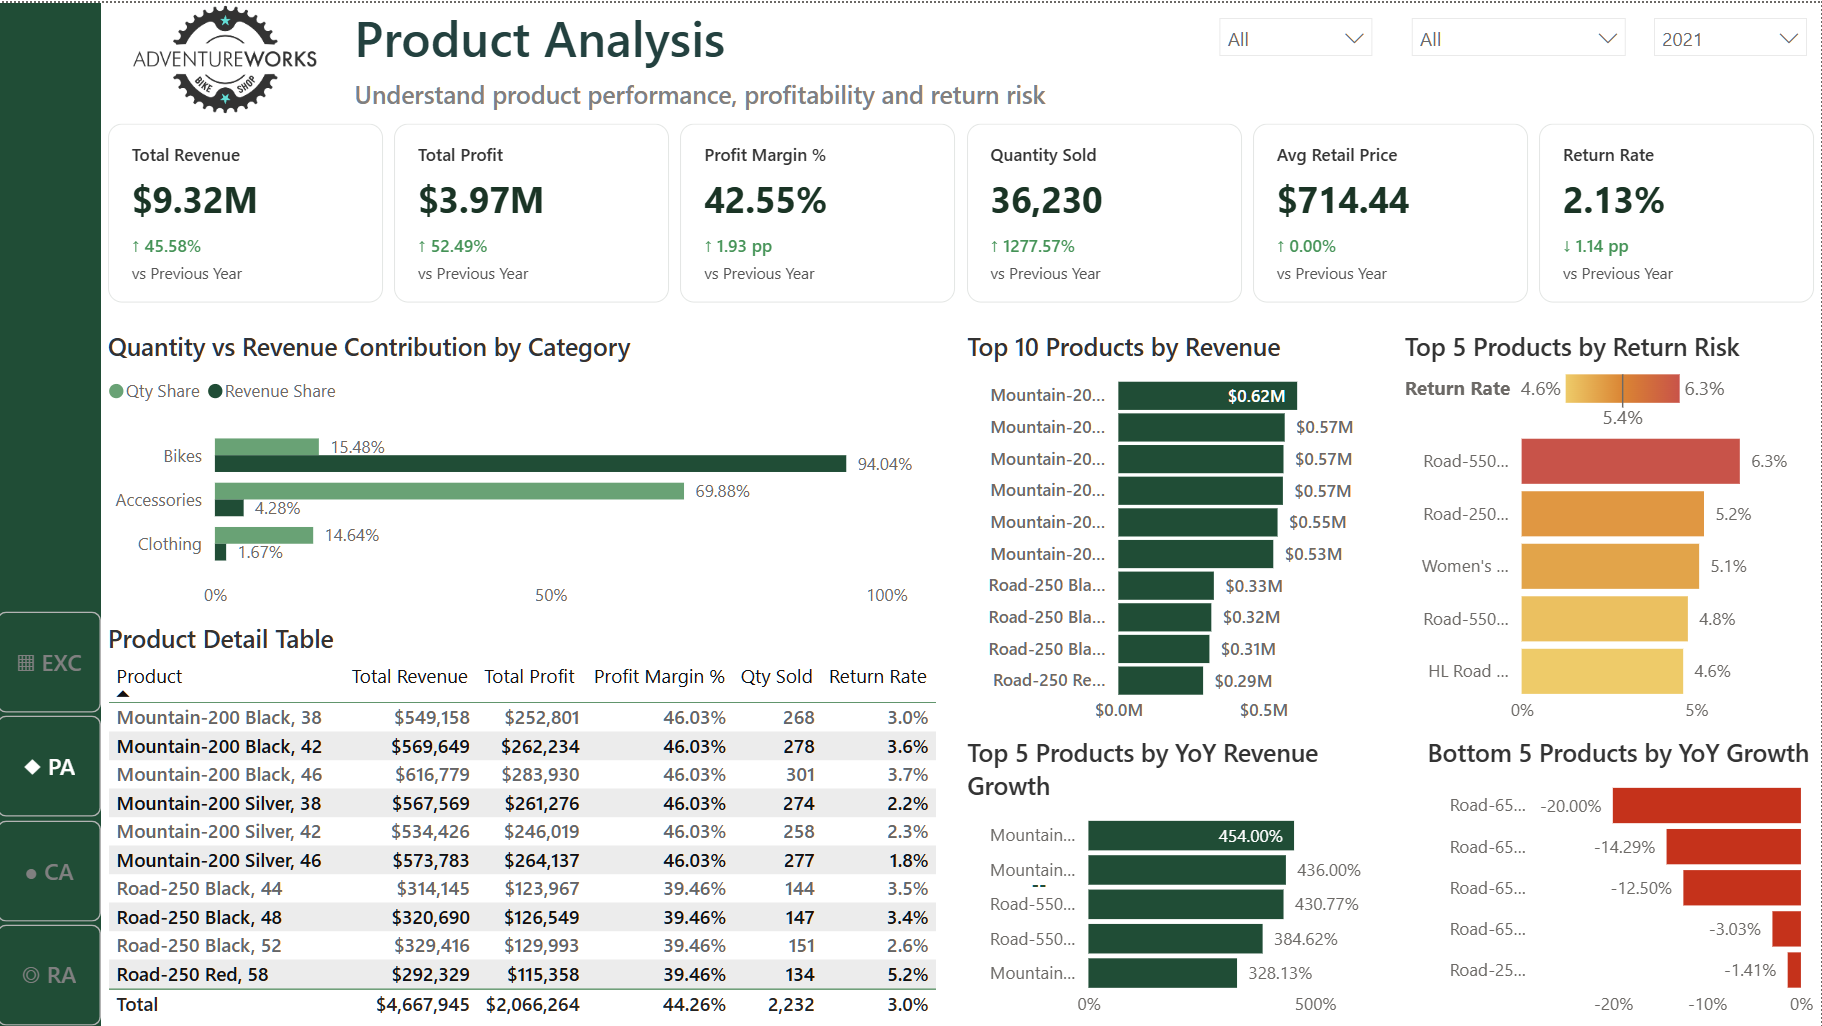

What the dashboard file says about the page in this screenshot:
{"tool":"powerbi","page":{"name":"◆ PA","canvas":[1280,720],"ordinal":1},"visuals":[{"type":"cardVisual","fields":{"Data":["Measure Table.Product YoY Availability Message"]},"box":[697.1,561.4,572.9,111.4],"z":0},{"type":"textbox","title":"Product Analysis","box":[246.2,1.1,553.7,78],"z":1000},{"type":"slicer","fields":{"Values":["Calendar Lookup.Year"]},"box":[1153,0,127,42.3],"z":2000},{"type":"slicer","fields":{"Values":["Territory Lookup.Region"]},"box":[848,0,127,42.3],"z":3000},{"type":"slicer","fields":{"Values":["Product Categories Lookup.CategoryName"]},"box":[983,0,170,42.5],"z":4000},{"type":"htmlContent443BE3AD55E043BF878BED274D3A6855","fields":{"content":["Measure Table.KPI Cards Product"]},"box":[72.9,78.6,1207.1,150],"z":5000},{"type":"clusteredBarChart","title":"Quantity vs Revenue Contribution by Category","fields":{"Category":["Product Categories Lookup.CategoryName"],"Y":["Measure Table.Category Quantity Contribution %","Measure Table.Category Revenue Contribution %"]},"box":[72.9,228.6,590,205.7],"z":6000},{"type":"clusteredBarChart","title":"Top 10 Products by Revenue","fields":{"Category":["Product Lookup.ProductName"],"Y":["Measure Table.Total Revenue"]},"box":[675.7,228.6,307.1,285.7],"z":7000},{"type":"tableEx","title":"Product Detail Table","fields":{"Values":["Product Lookup.ProductName","Measure Table.Total Revenue","Measure Table.Total Profit","Measure Table.Profit Margin %","Measure Table.Quantity Sold","Measure Table.Return Rate"]},"box":[72.9,434.3,602.9,285.7],"z":8000},{"type":"barChart","title":"Top 5 Products by Return Risk","fields":{"Category":["Product Lookup.ProductName"],"Y":["Measure Table.Return Rate"]},"box":[982.9,228.6,297.1,285.7],"z":9000},{"type":"barChart","title":"Top 5 Products by YoY Revenue Growth","fields":{"Category":["Product Lookup.ProductName"],"Y":["Measure Table.YoY Growth %"]},"box":[675.7,514.3,307.1,205.7],"z":10000},{"type":"barChart","title":"Bottom 5 Products by YoY Growth","fields":{"Category":["Product Lookup.ProductName"],"Y":["Measure Table.YoY Growth %"]},"box":[998.6,514.3,281.4,205.7],"z":11000},{"type":"shape","box":[0,0,72.9,721.4],"z":12000},{"type":"pageNavigator","box":[0,427.1,72.9,292.9],"z":13000},{"type":"image","box":[74.6,0,171.6,79.1],"z":13001}]}

Visuals, with their boxes on the page's 1280x720 design canvas (x1, y1, x2, y2). These are canvas units, not pixel positions in the 1822x1026 screenshot, which may show the page scaled, cropped or inside an application window:
cardVisual - Measure Table.Product YoY Availability Message: BBox(697, 561, 1270, 673)
"Product Analysis" textbox: BBox(246, 1, 800, 79)
slicer - Calendar Lookup.Year: BBox(1153, 0, 1280, 42)
slicer - Territory Lookup.Region: BBox(848, 0, 975, 42)
slicer - Product Categories Lookup.CategoryName: BBox(983, 0, 1153, 42)
htmlContent443BE3AD55E043BF878BED274D3A6855 - Measure Table.KPI Cards Product: BBox(73, 79, 1280, 229)
"Quantity vs Revenue Contribution by Category" clusteredBarChart: BBox(73, 229, 663, 434)
"Top 10 Products by Revenue" clusteredBarChart: BBox(676, 229, 983, 514)
"Product Detail Table" tableEx: BBox(73, 434, 676, 720)
"Top 5 Products by Return Risk" barChart: BBox(983, 229, 1280, 514)
"Top 5 Products by YoY Revenue Growth" barChart: BBox(676, 514, 983, 720)
"Bottom 5 Products by YoY Growth" barChart: BBox(999, 514, 1280, 720)
shape: BBox(0, 0, 73, 721)
pageNavigator: BBox(0, 427, 73, 720)
image: BBox(75, 0, 246, 79)
